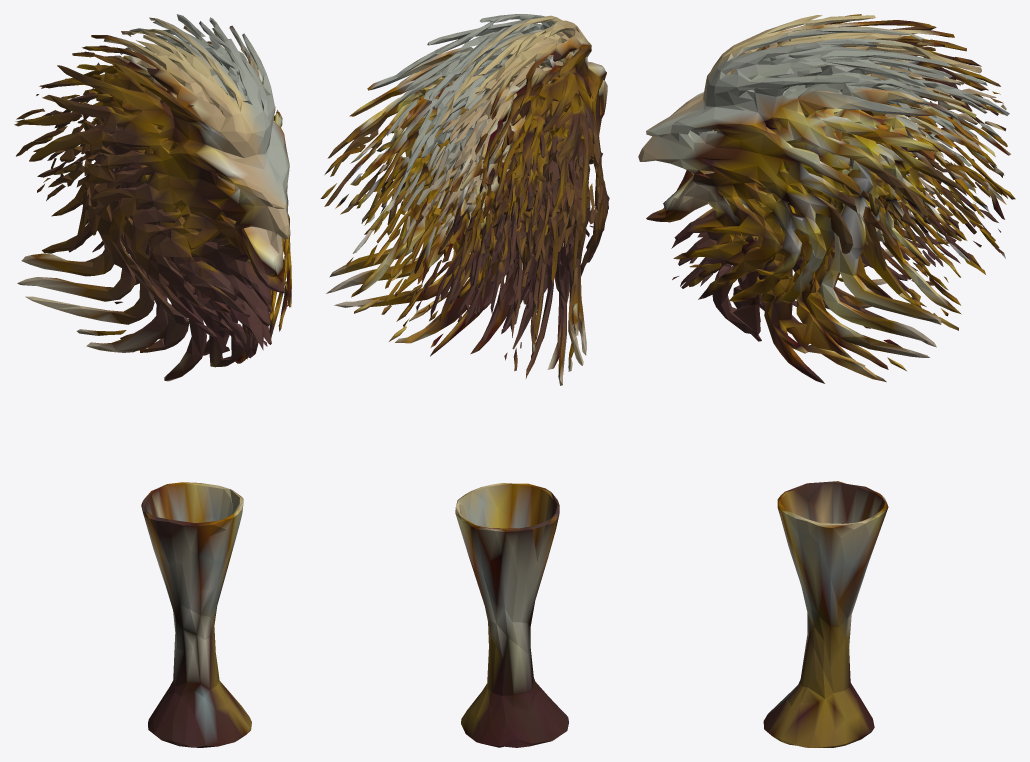
File: worldTreeFragment.glb
3 renders of one model, left to right at view 1: azimuth 30°, elevation 25°; view 2: azimuth 150°, elevation 25°; view 3: azimuth 270°, elevation 25°, orthographic. The views are drawn at different scales.
Visible parts, largest first — view 1: world; view 2: world; view 3: world.
Part boxes in pixels (x1,y1,x2,y2): world: [14, 14, 291, 747]; world: [320, 14, 609, 747]; world: [638, 14, 1015, 747].
Size of the model in its own units: 0.3877 by 1 by 0.4891.
